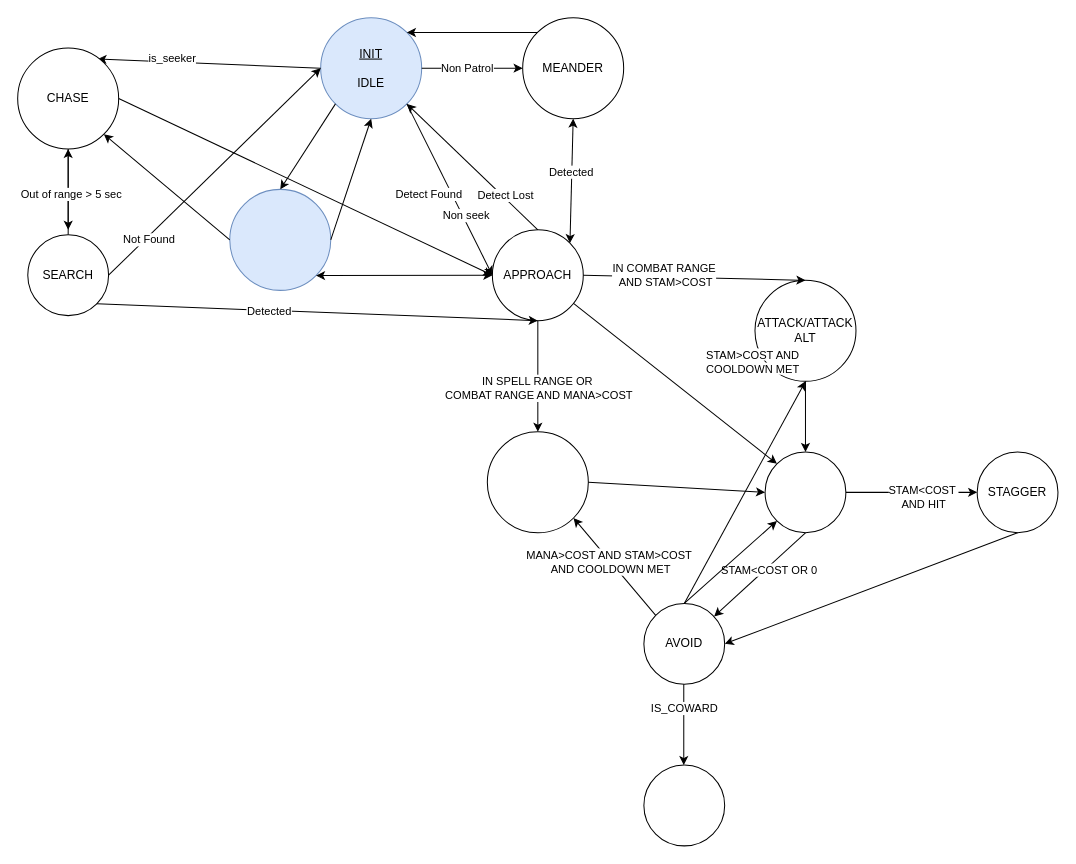
This 1076x864 diagram has some shape labels left out. Here are the shapes that lost their labels. From the top down, the centre of each, then its label:
the point at 280,239: INIT PATROL
the point at 537,482: CAST SPELL
the point at 805,492: DEFEND
the point at 684,805: FLEE!
